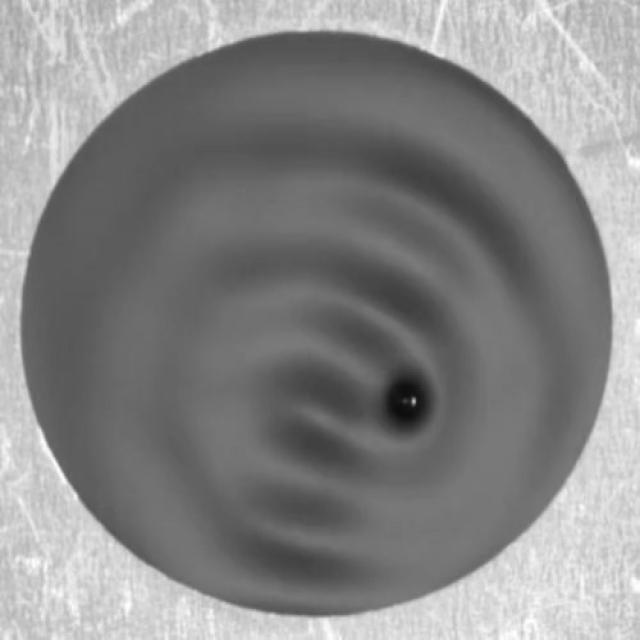droplet: (384, 377, 430, 426)
